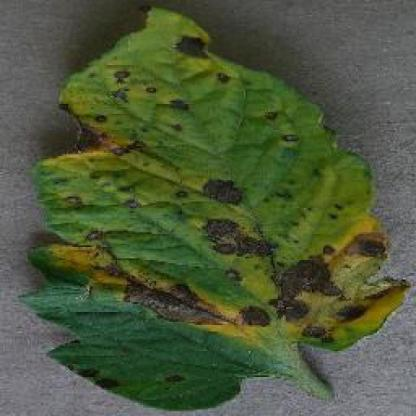Tomato_Blight: (18, 5, 409, 406)
